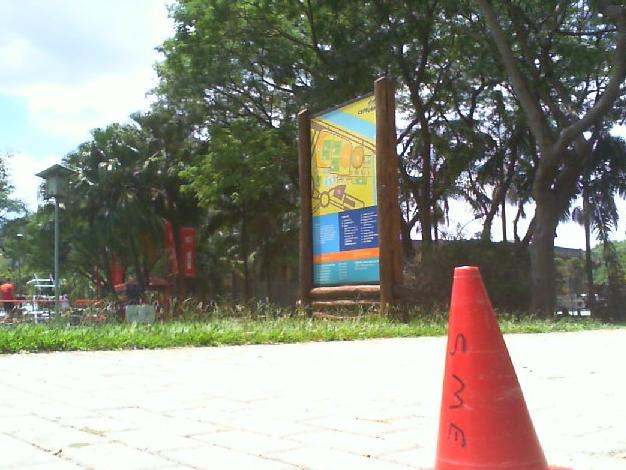0 cone: (409, 265, 573, 470)
